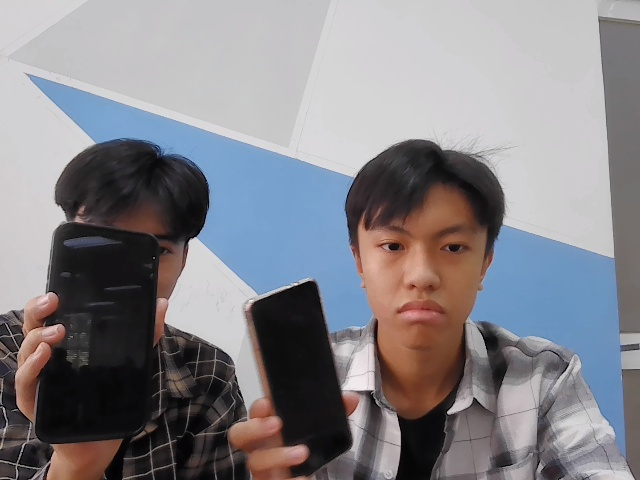human: (349, 148, 495, 354)
phone: (32, 219, 158, 447), (238, 278, 361, 476)
